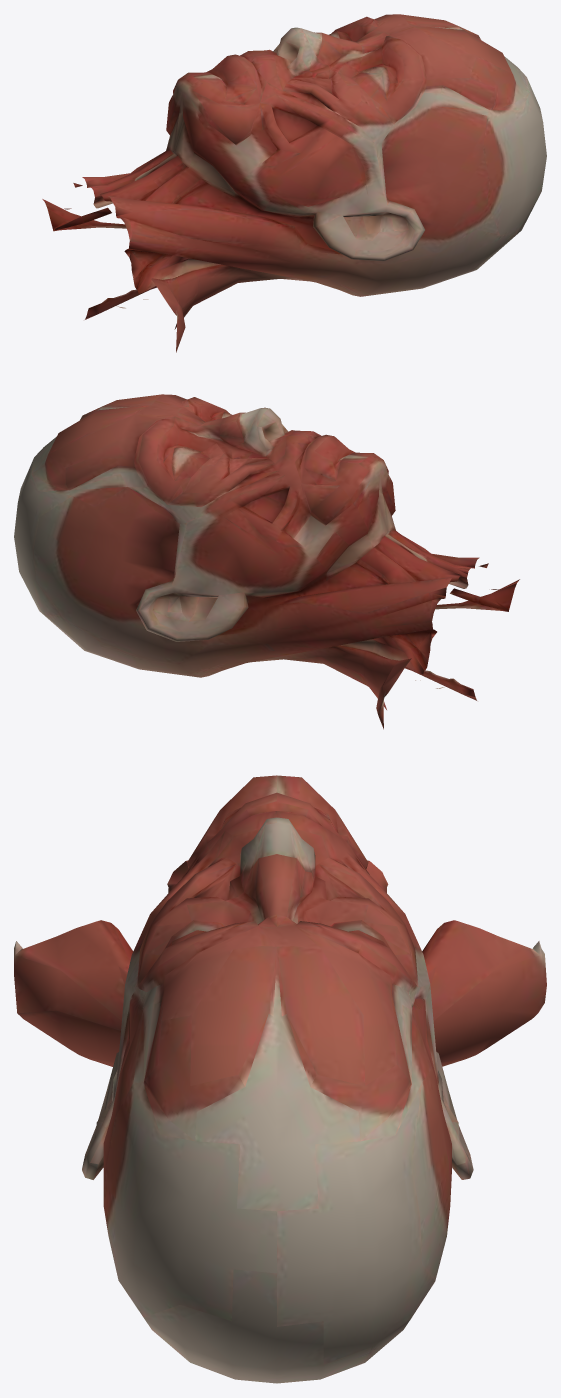
File: head-muscle.glb
3 views of the same model, one above another, from view 1: azimuth 30°, elevation 25°; view 2: azimuth 150°, elevation 25°; view 3: azimuth 270°, elevation 25° (orthographic). The views are drawn at different scales.
Visible parts, largest first — view 1: tripo_node_1053026d-672d-4a6a-a43d-fa496; view 2: tripo_node_1053026d-672d-4a6a-a43d-fa496; view 3: tripo_node_1053026d-672d-4a6a-a43d-fa496.
Part boxes in pixels (<box>): tripo_node_1053026d-672d-4a6a-a43d-fa496: <box>42,14,546,352</box>; tripo_node_1053026d-672d-4a6a-a43d-fa496: <box>14,394,519,729</box>; tripo_node_1053026d-672d-4a6a-a43d-fa496: <box>14,775,546,1383</box>.
Size of the model in its own units: 0.0459 by 0.028 by 0.0297.
1 material, 1 textured.
